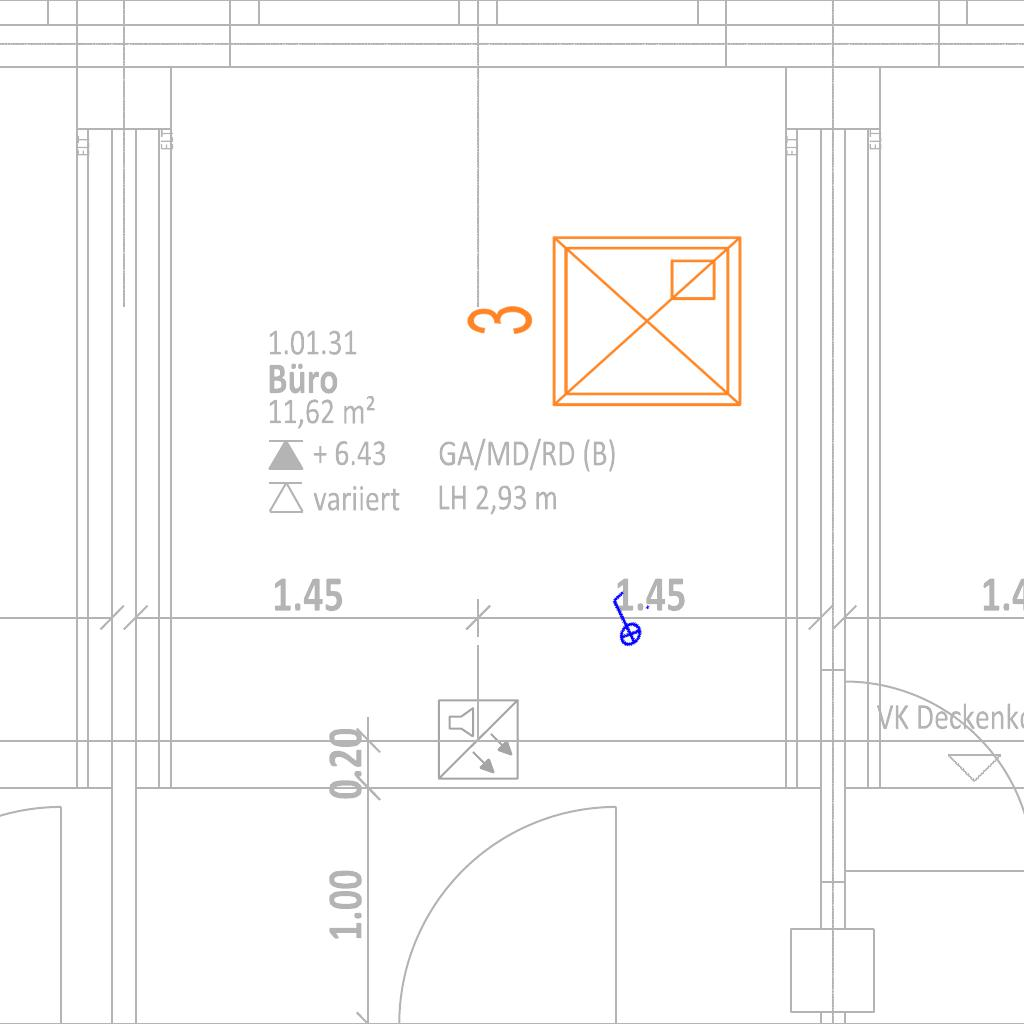Ausschalter_beleuchtet: (588, 583, 660, 657)
Einbaudownlights_LED_Konferenzraeume: (456, 221, 756, 429)
